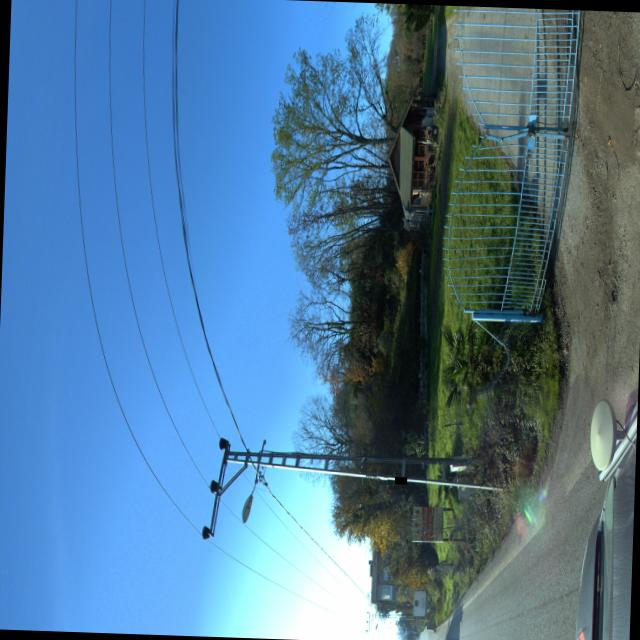Utility Pole Information Plate: (394, 475, 407, 483)
